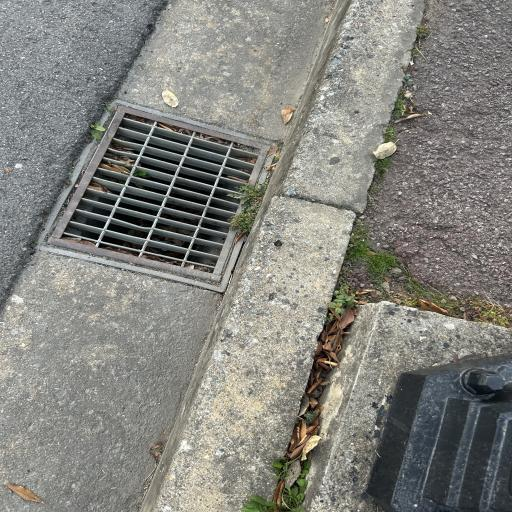debris: (230, 184, 266, 234), (159, 123, 193, 135), (107, 152, 134, 162), (103, 165, 129, 173), (111, 141, 129, 151), (71, 238, 94, 245), (88, 184, 107, 191)
drain: (52, 108, 266, 281)
